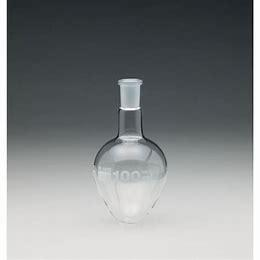Pear shaped flask: (97, 61, 169, 230)
